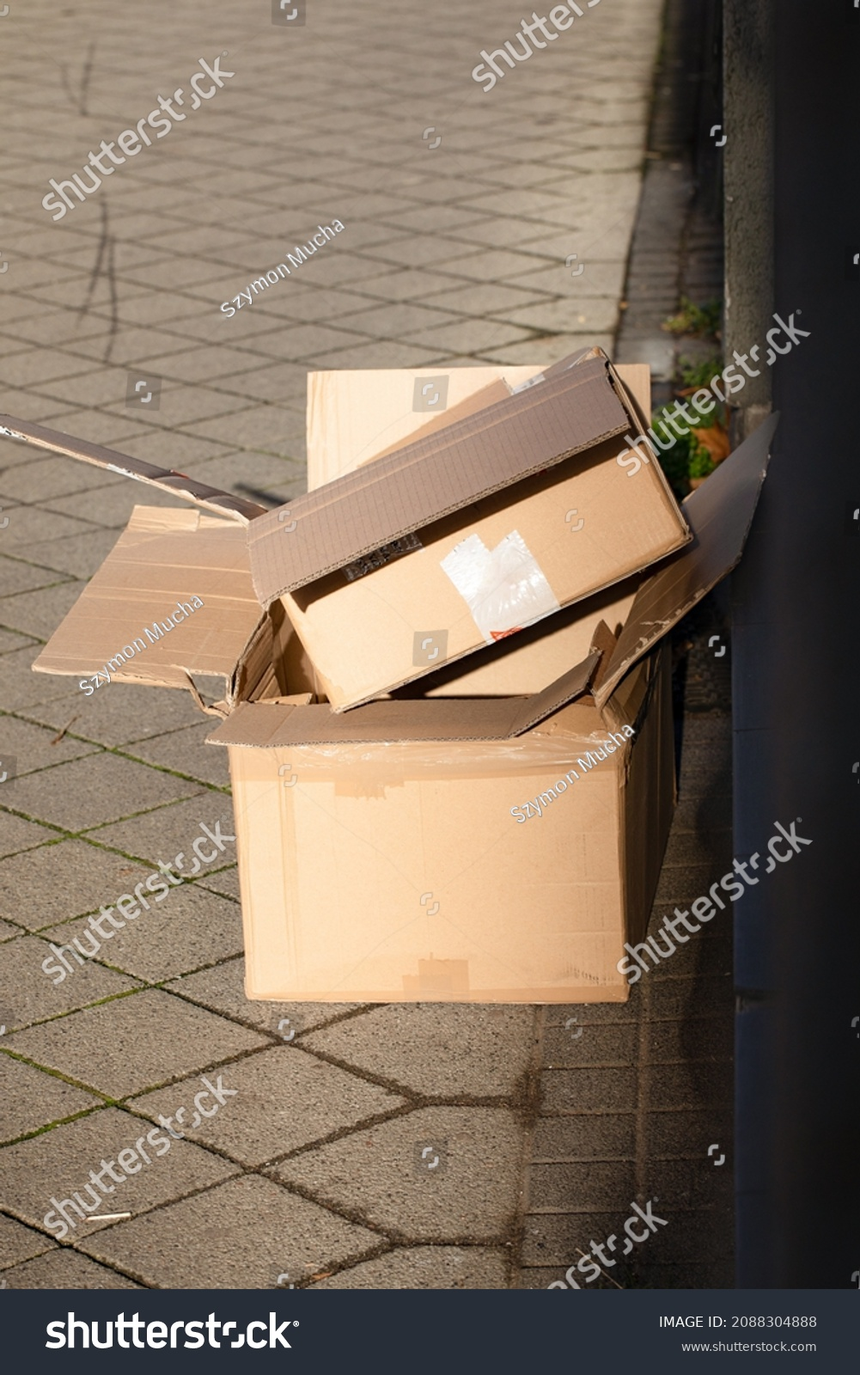DeliveryBox: (70, 349, 776, 1030)
